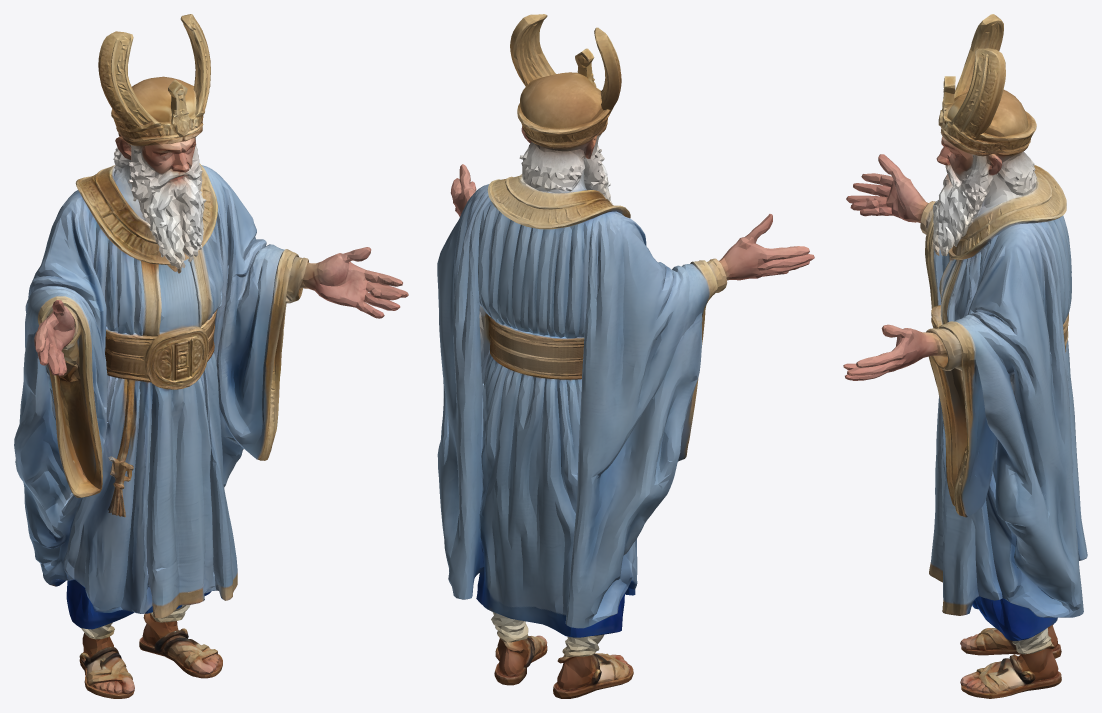
Rendered from anu_rodin_source.glb.
3 renders of one model, left to right at view 1: azimuth 30°, elevation 25°; view 2: azimuth 150°, elevation 25°; view 3: azimuth 270°, elevation 25°, orthographic. The views are drawn at different scales.
Visible parts, largest first — view 1: model; view 2: model; view 3: model.
Part boxes in pixels (left/top/right/bottom): model: left=14, top=14, right=408, bottom=698; model: left=437, top=14, right=814, bottom=698; model: left=843, top=14, right=1087, bottom=698.
Size of the model in its own units: 1.11 by 1.9 by 0.6613.
Materials: 1 (1 with a texture image).
